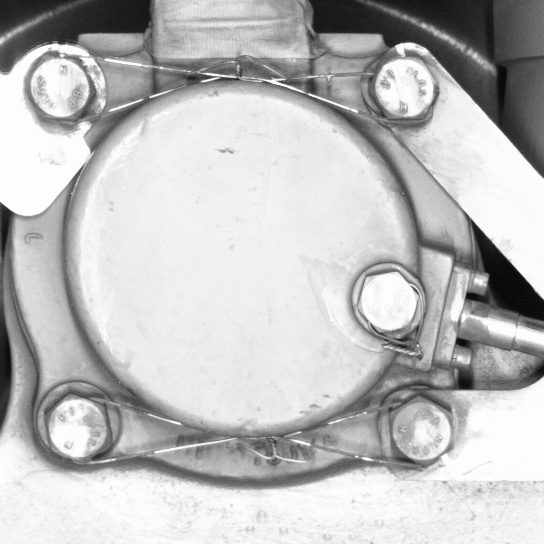IronWire: (35, 382, 460, 474), (21, 48, 446, 133)
Screw: (35, 382, 117, 472), (357, 47, 444, 131), (380, 386, 459, 474), (20, 47, 100, 128), (348, 258, 424, 338)
